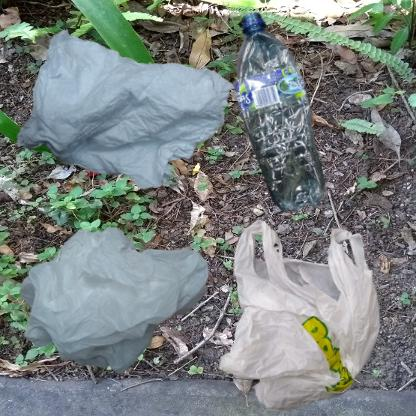bolsa: (10, 213, 229, 392), (213, 213, 398, 416)
botella: (213, 10, 360, 233)
papel: (10, 10, 272, 238)
